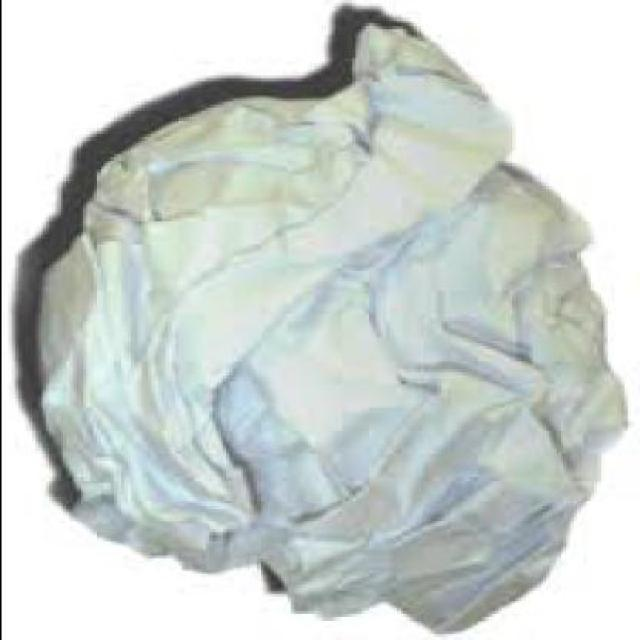PAPER: (37, 26, 634, 639)
